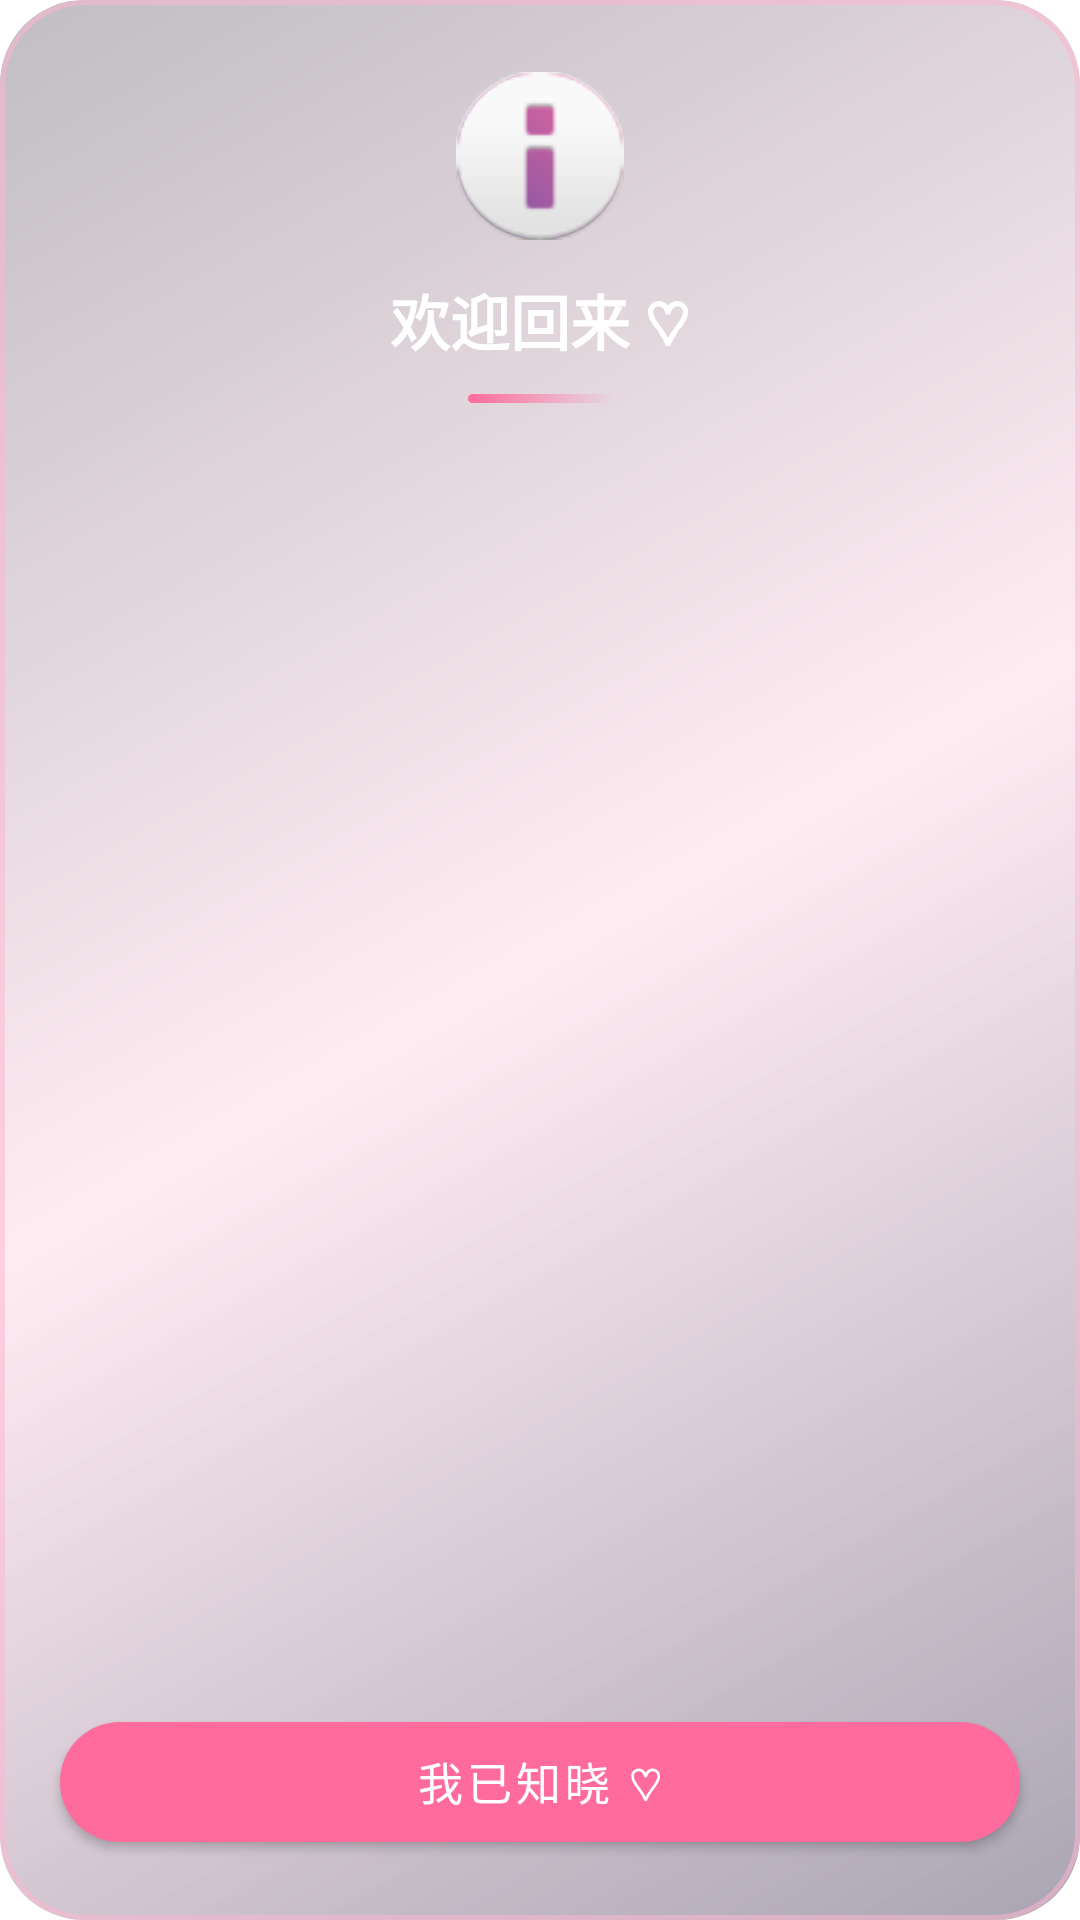

Where to tap for icons on this 1080 × 1920 app screen, as point (x, y):
info: point (540, 156)
